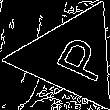P_NW: (36, 29, 106, 85)
